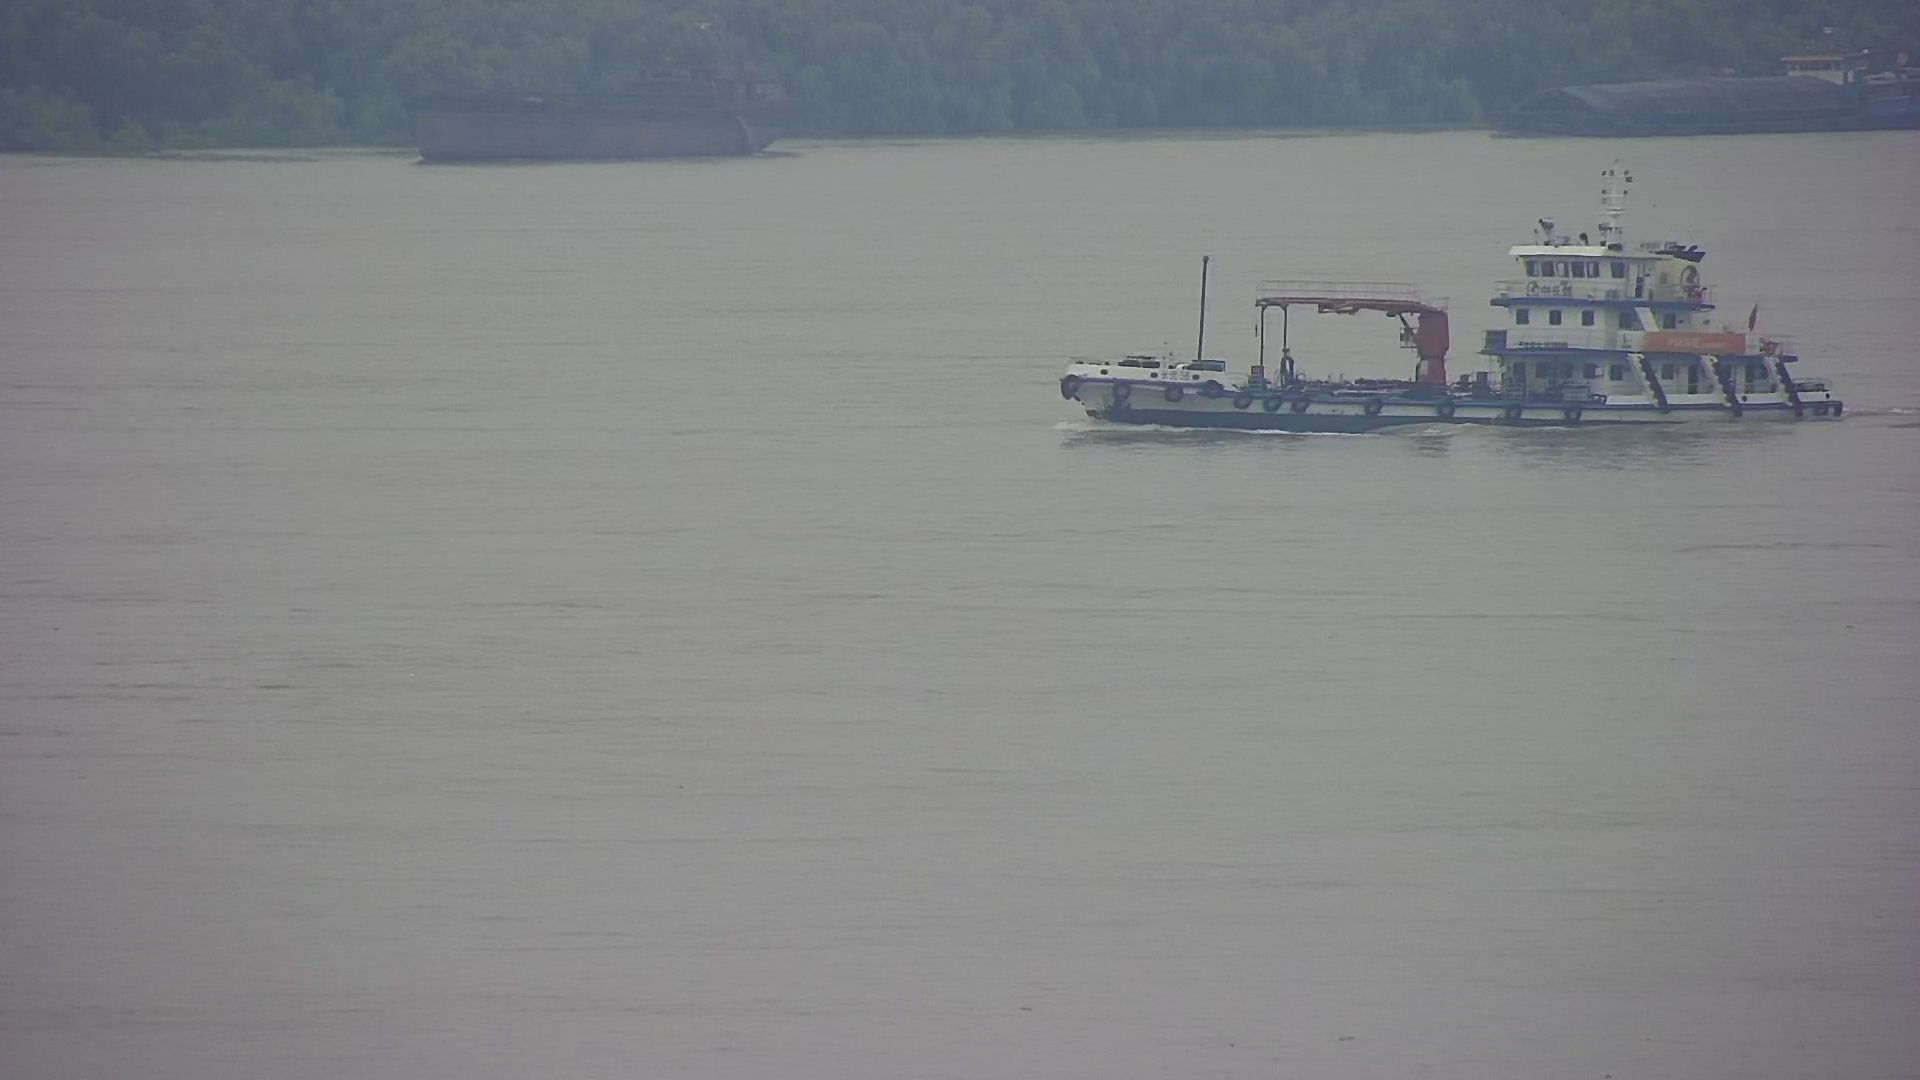ship: (1035, 212, 1874, 460), (365, 1, 829, 179), (1482, 22, 1920, 142)
